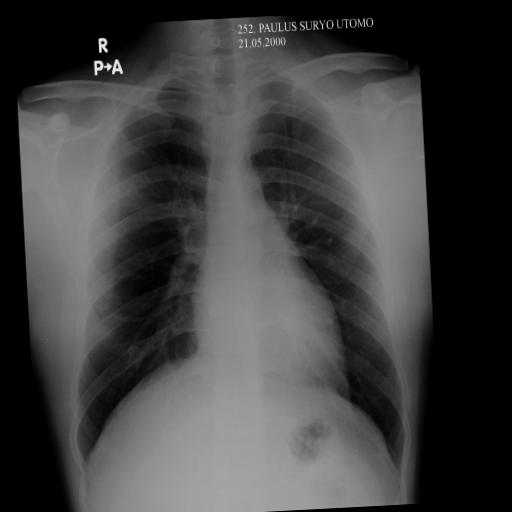normal: (51, 44, 412, 498)
